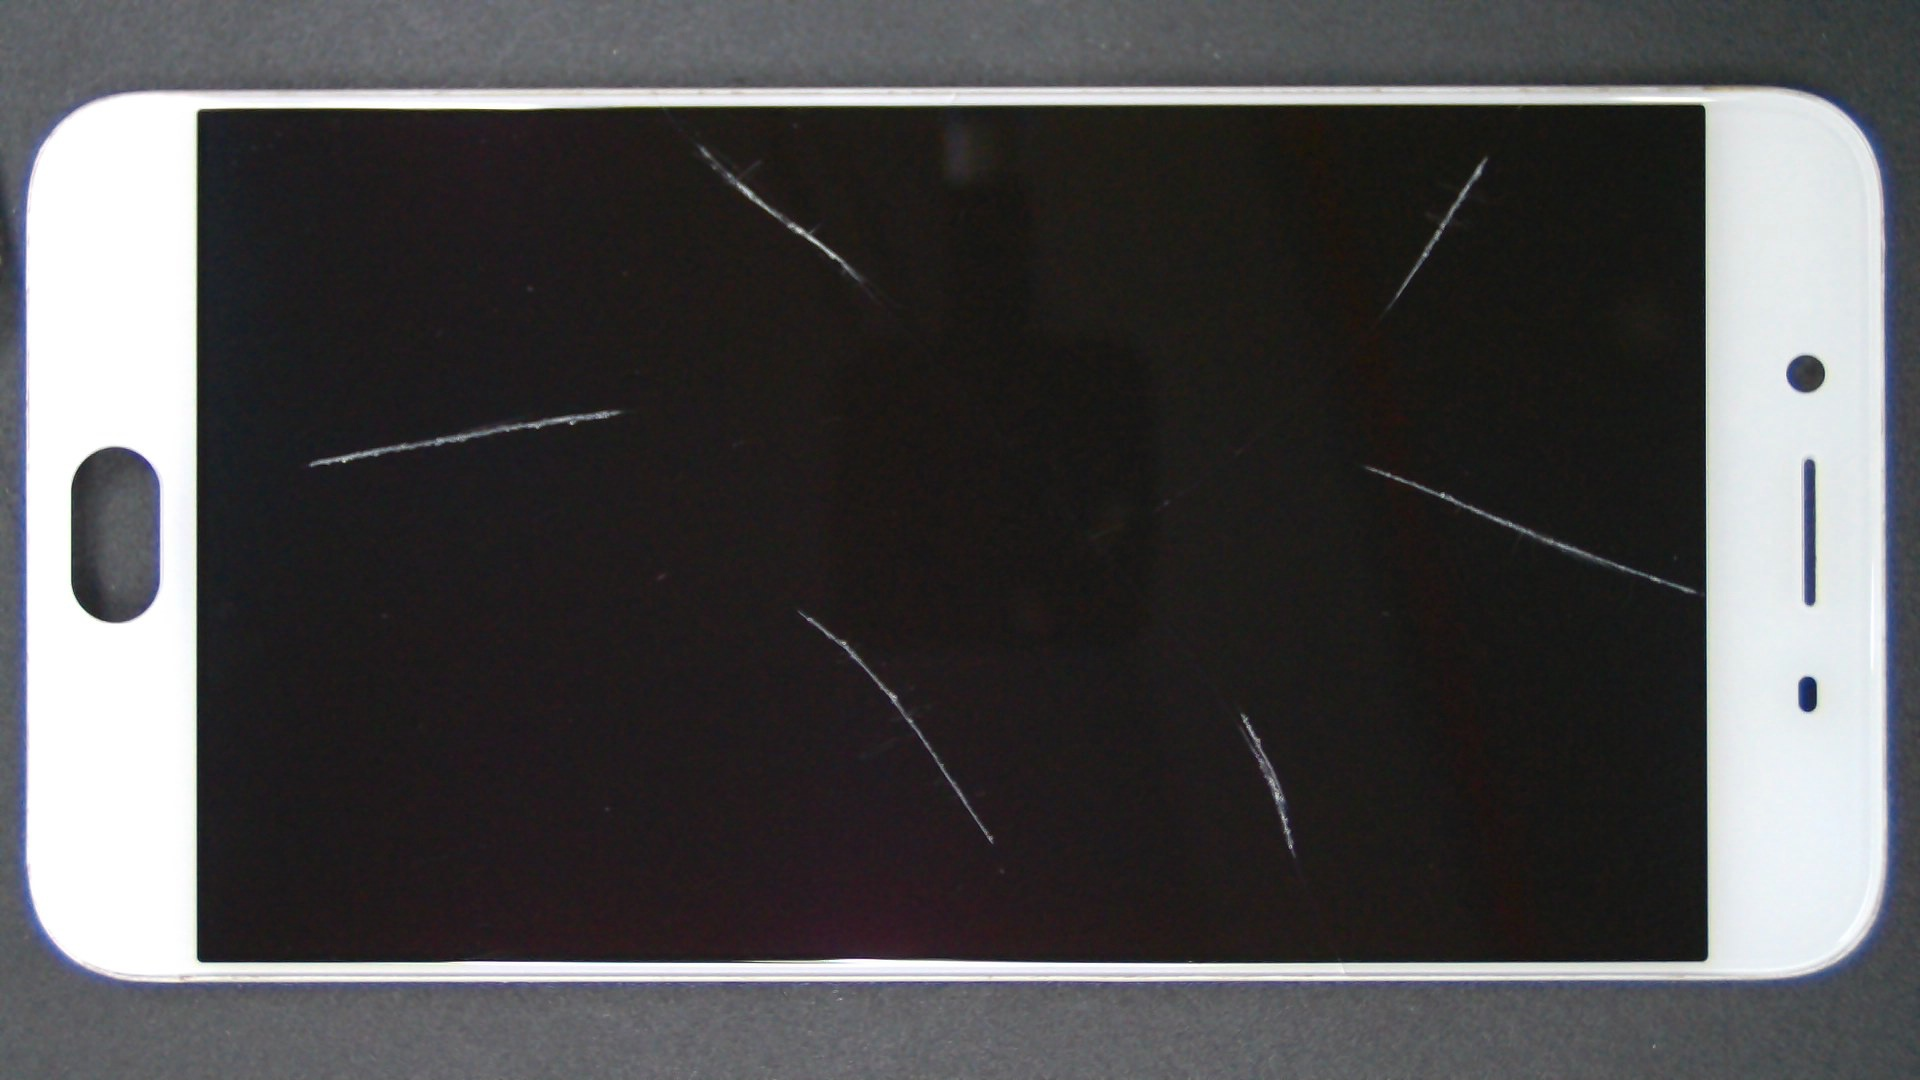oil: (620, 353, 1859, 1069), (683, 231, 1920, 699), (397, 305, 1195, 915), (306, 204, 918, 615), (742, 78, 1920, 235), (348, 71, 1044, 215)
